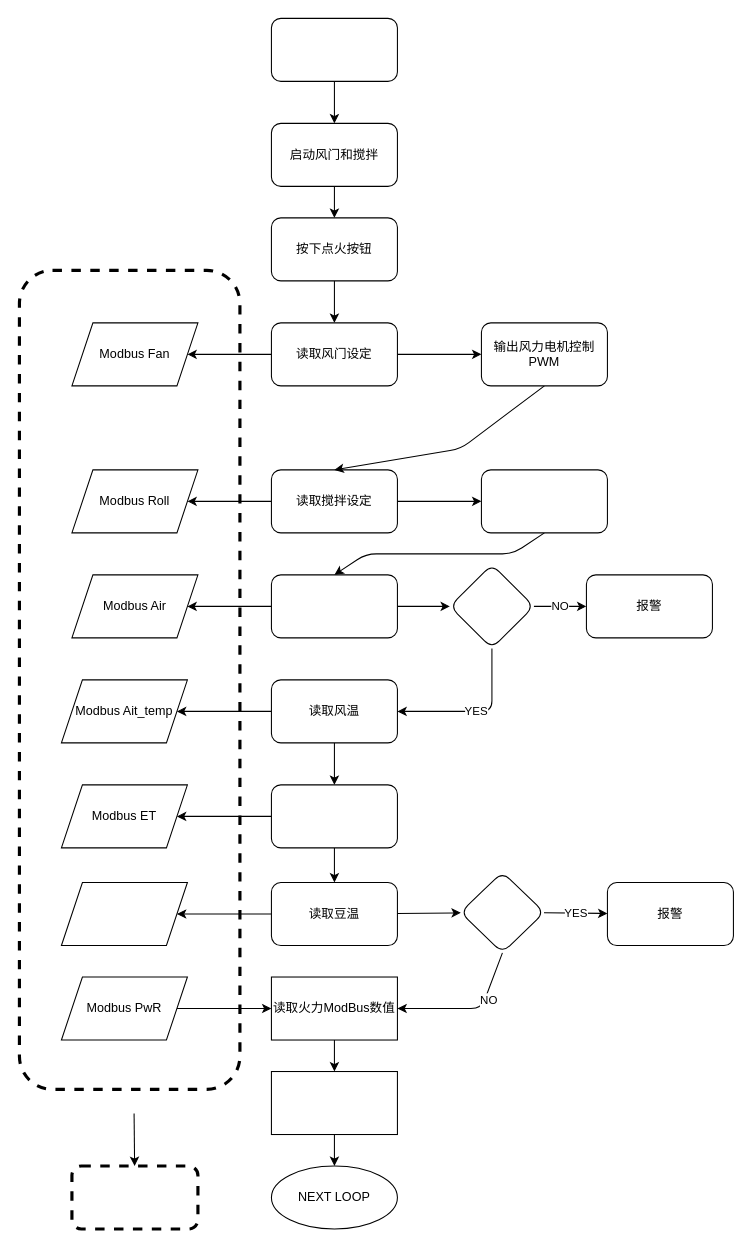
This 752x1248 diagram has some shape labels left out. Each missing label, with the box of its shape:
ARTISAN: (70, 1164, 199, 1230)
Modbus BT: (60, 881, 187, 946)
OVER HEAT: (459, 871, 544, 953)
开始: (270, 17, 397, 81)
控制SSR: (270, 1070, 397, 1135)
是否正常: (449, 563, 534, 648)
读取炉温: (270, 784, 397, 848)
读取风压传感器: (270, 574, 397, 638)
输出搅拌电机控制PWM: (480, 469, 607, 533)
